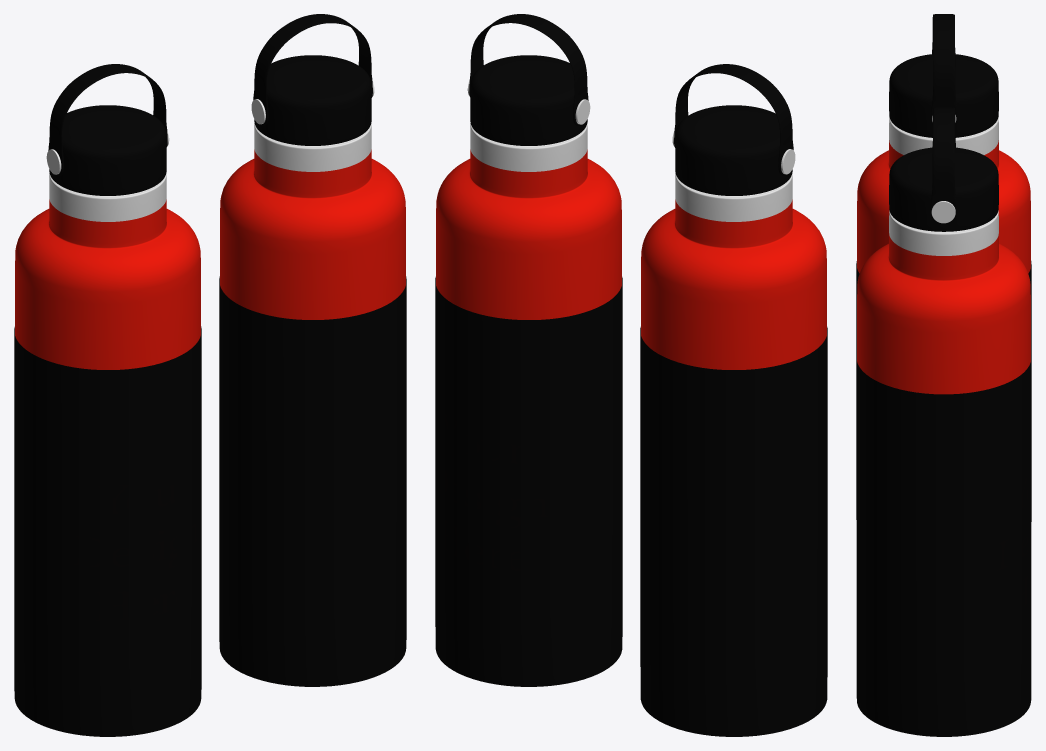
File: Steel A-1.glb
3 renders of one model, left to right at view 1: azimuth 30°, elevation 25°; view 2: azimuth 150°, elevation 25°; view 3: azimuth 270°, elevation 25°, orthographic. The views are drawn at different scales.
Visible parts, largest first — view 1: Circle.011, Circle.009, Circle, Circle.002; view 2: Circle.011, Circle.009, Circle.002, Circle; view 3: Circle.011, Circle.002, Circle, Circle.010.
Part boxes in pixels (x1,y1,x2,y2): Circle.011: (219,276,406,686); Circle.009: (14,326,201,736); Circle: (15,64,200,369); Circle.002: (220,14,405,319); Circle.011: (435,277,622,686); Circle.009: (640,327,827,736); Circle.002: (436,14,621,319); Circle: (641,64,826,369); Circle.011: (856,354,1031,736); Circle.002: (857,107,1030,394); Circle: (857,14,1030,273); Circle.010: (931,201,955,223).
Bounding box in the file's own units: 4.53 × 7.4 × 2.
4 materials, 1 textured.
